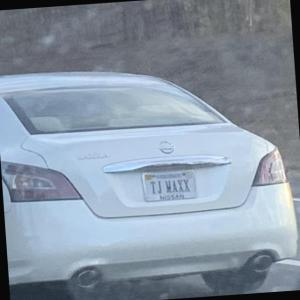Plate: (141, 168, 198, 202)
